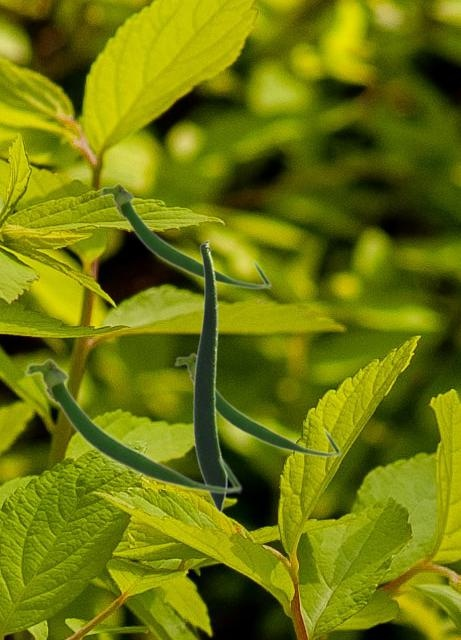french_bean: (23, 356, 242, 494), (98, 181, 271, 289), (173, 351, 341, 457), (192, 239, 227, 512)
